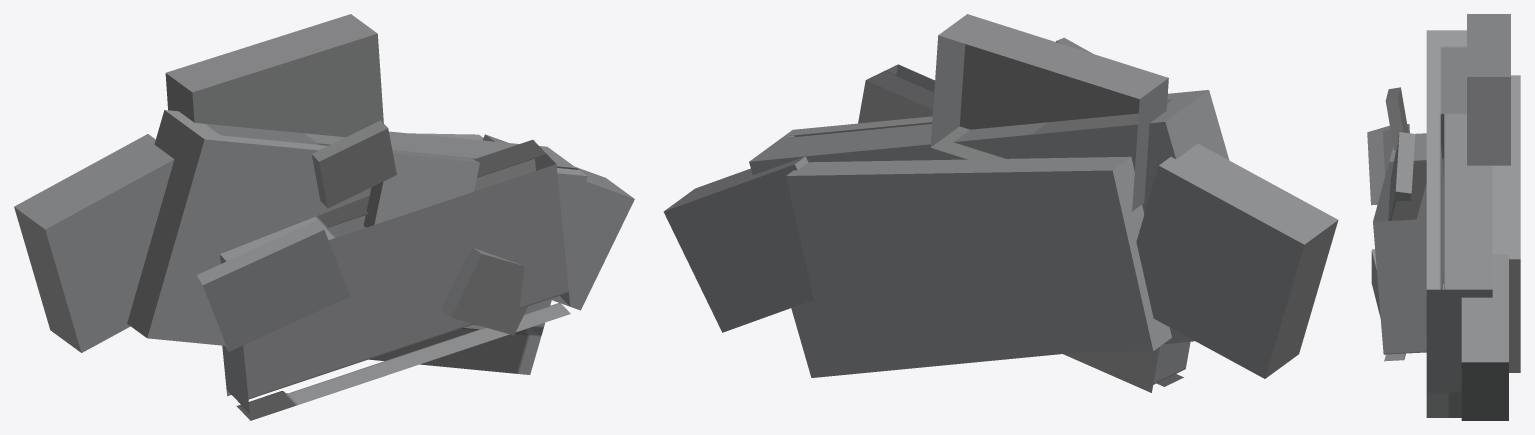
3 views of the same model, side by side, from view 1: azimuth 30°, elevation 25°; view 2: azimuth 150°, elevation 25°; view 3: azimuth 270°, elevation 25° (orthographic). The views are drawn at different scales.
Bounding box in the file's own units: 0.7019 × 0.4027 × 0.1932.
